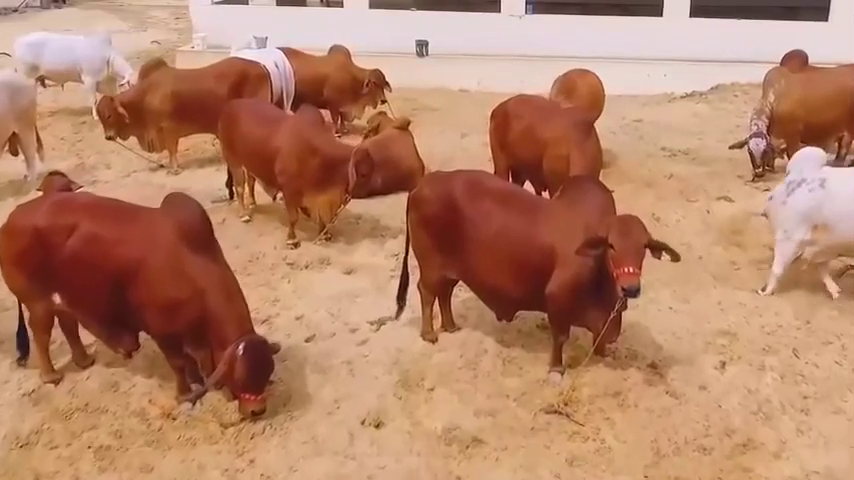bo: (1, 175, 272, 422), (395, 165, 653, 385), (208, 87, 378, 256), (91, 59, 271, 176), (483, 80, 616, 199), (739, 48, 851, 184), (763, 139, 854, 305), (12, 23, 140, 114), (280, 39, 385, 117), (338, 103, 417, 204), (232, 25, 312, 120), (1, 65, 48, 200), (534, 58, 611, 126)
